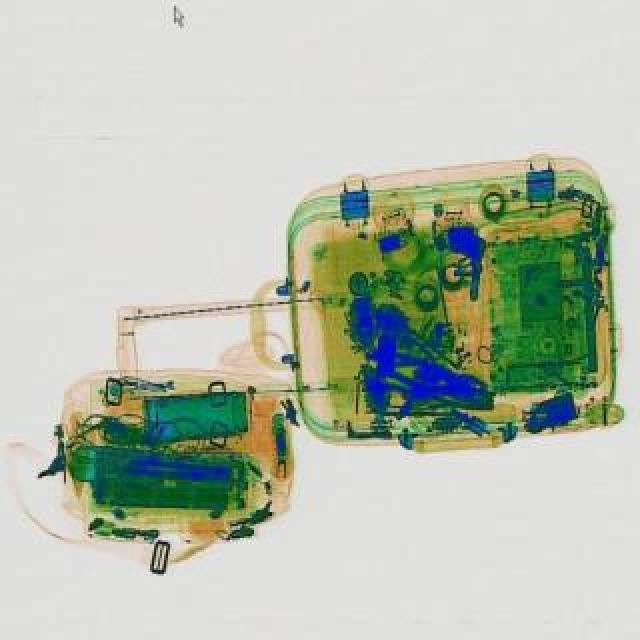wrench: (360, 344, 488, 406)
